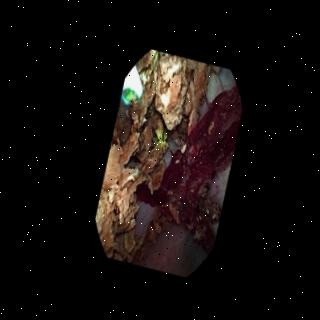fiber: (122, 64, 142, 101)
laser: (155, 129, 162, 141), (125, 89, 132, 97)
stone: (97, 49, 218, 258), (146, 206, 169, 241), (165, 199, 179, 220)
